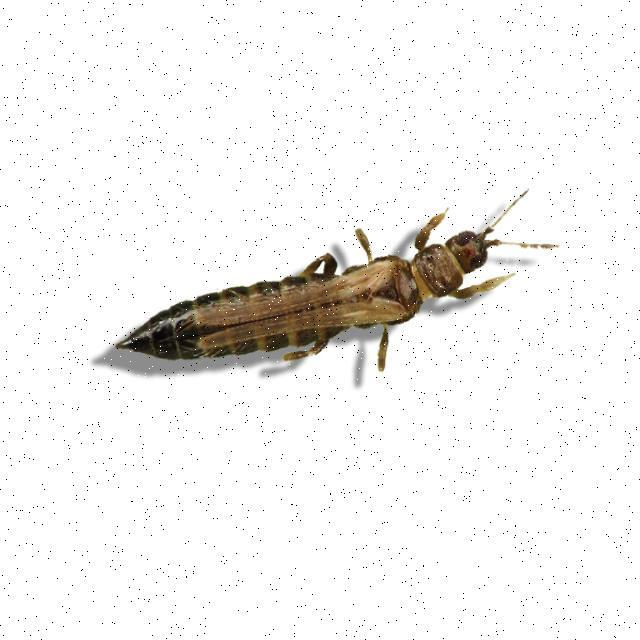Thrips: (60, 185, 573, 437)
